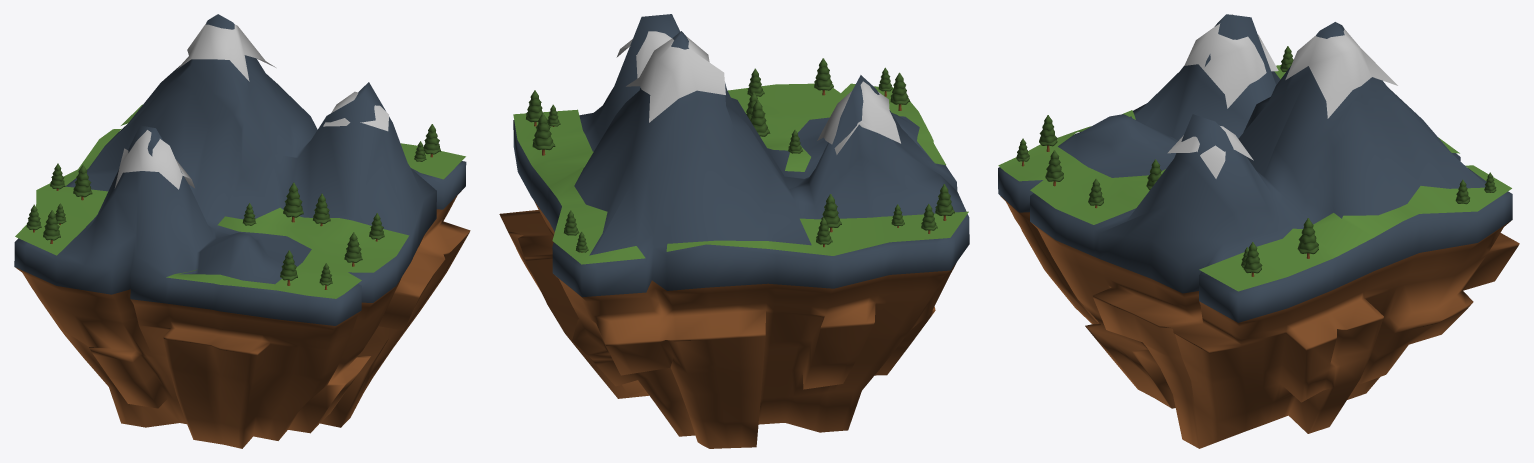
File: Mountain.glb
3 views of the same model, side by side, from view 1: azimuth 30°, elevation 25°; view 2: azimuth 150°, elevation 25°; view 3: azimuth 270°, elevation 25° (orthographic). The views are drawn at different scales.
Visible parts, largest first — view 1: Cube.042, Cube.043, Cube.083, Cylinder.061; view 2: Cube.042, Cube.043, Cube.083, Cylinder.054; view 3: Cube.042, Cube.043, Cube.083, Cylinder.054.
Boxes of the visible parts, <box> form: Cube.042: <box>14,14,470,448</box>; Cube.043: <box>15,104,465,298</box>; Cube.083: <box>114,23,388,189</box>; Cylinder.061: <box>283,182,303,222</box>; Cube.042: <box>499,14,969,448</box>; Cube.043: <box>513,83,968,264</box>; Cube.083: <box>616,31,900,154</box>; Cylinder.054: <box>532,113,555,155</box>; Cube.042: <box>998,14,1519,448</box>; Cube.043: <box>998,65,1511,291</box>; Cube.083: <box>1167,14,1397,178</box>; Cylinder.054: <box>1297,218,1318,258</box>.
Size of the model in its own units: 6.39 by 5.37 by 6.4.
